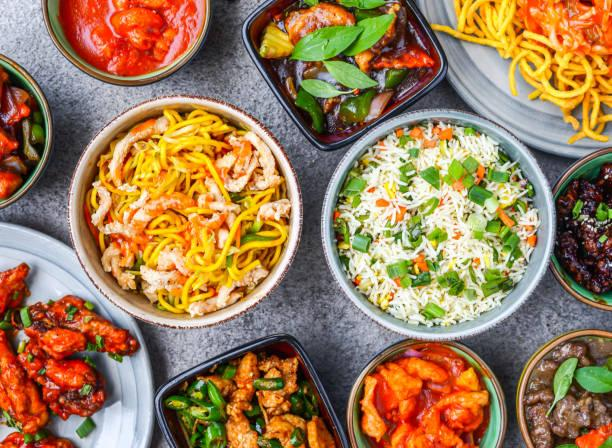Braised Crucian Carp: (67, 94, 296, 326), (320, 109, 548, 337), (0, 227, 148, 448), (410, 1, 607, 160), (243, 1, 440, 151), (150, 331, 343, 446), (345, 336, 509, 445), (42, 0, 206, 86), (514, 329, 609, 446)
